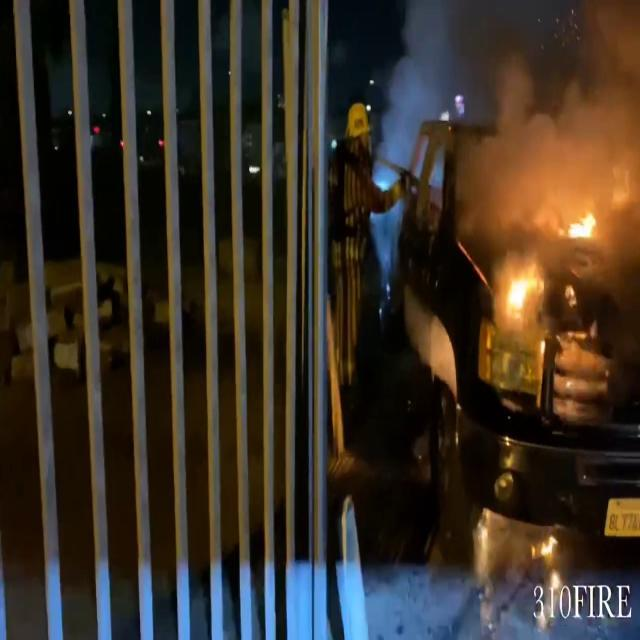Fire: (502, 264, 538, 323), (563, 203, 603, 245)
Smoke: (388, 0, 640, 241)
